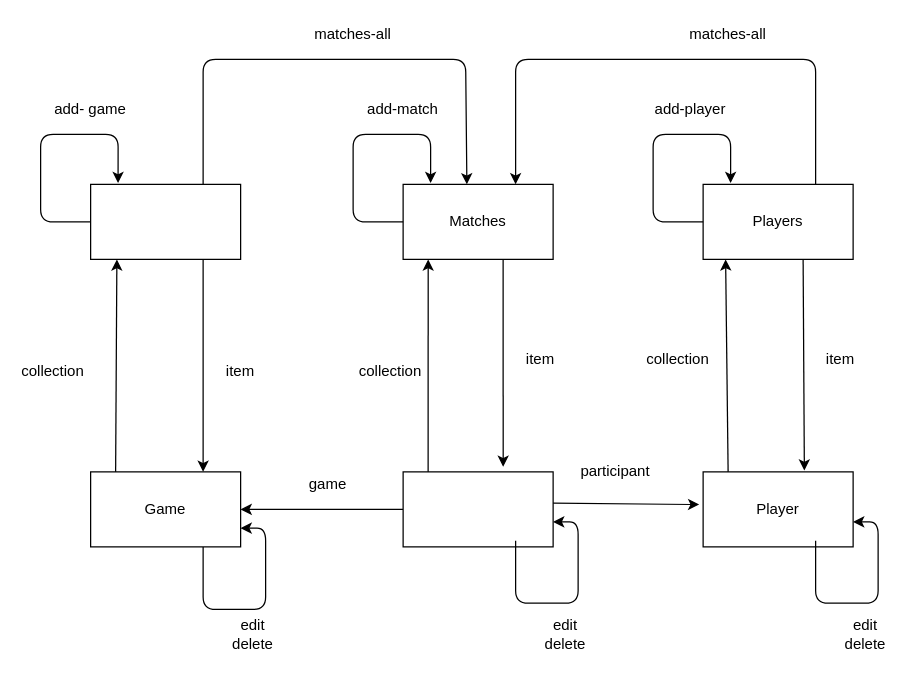
Some shapes in this 911 by 674 pixel diagram are drawn without their labels. The centre of each missing label's shape, as x and y in pixels:
"Games" belongs at point 165,221.
"Match" belongs at point 477,509.
